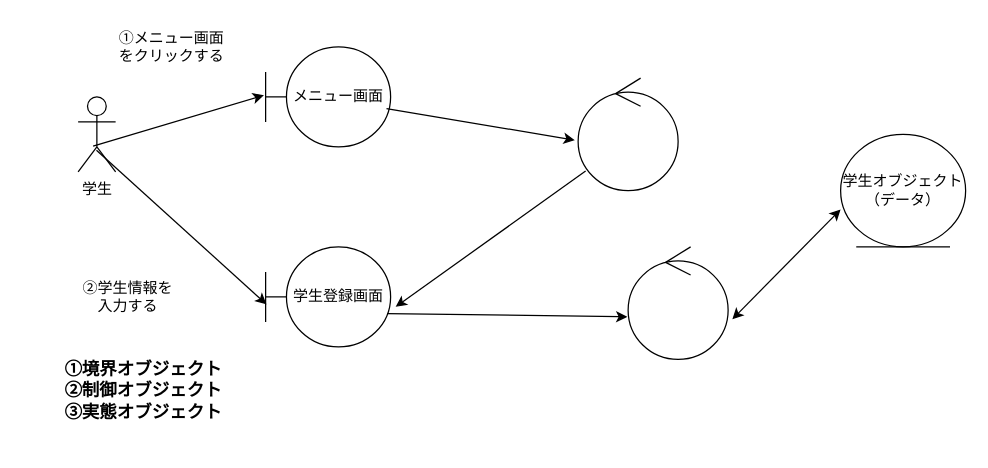
Image size: 988x468. Some labels were removed from this diagram. Here are the shapes that lost their labels. From the top down, the centre of each, then its label:
point 627,134: 表示（する）
point 677,302: 学生情報登録
